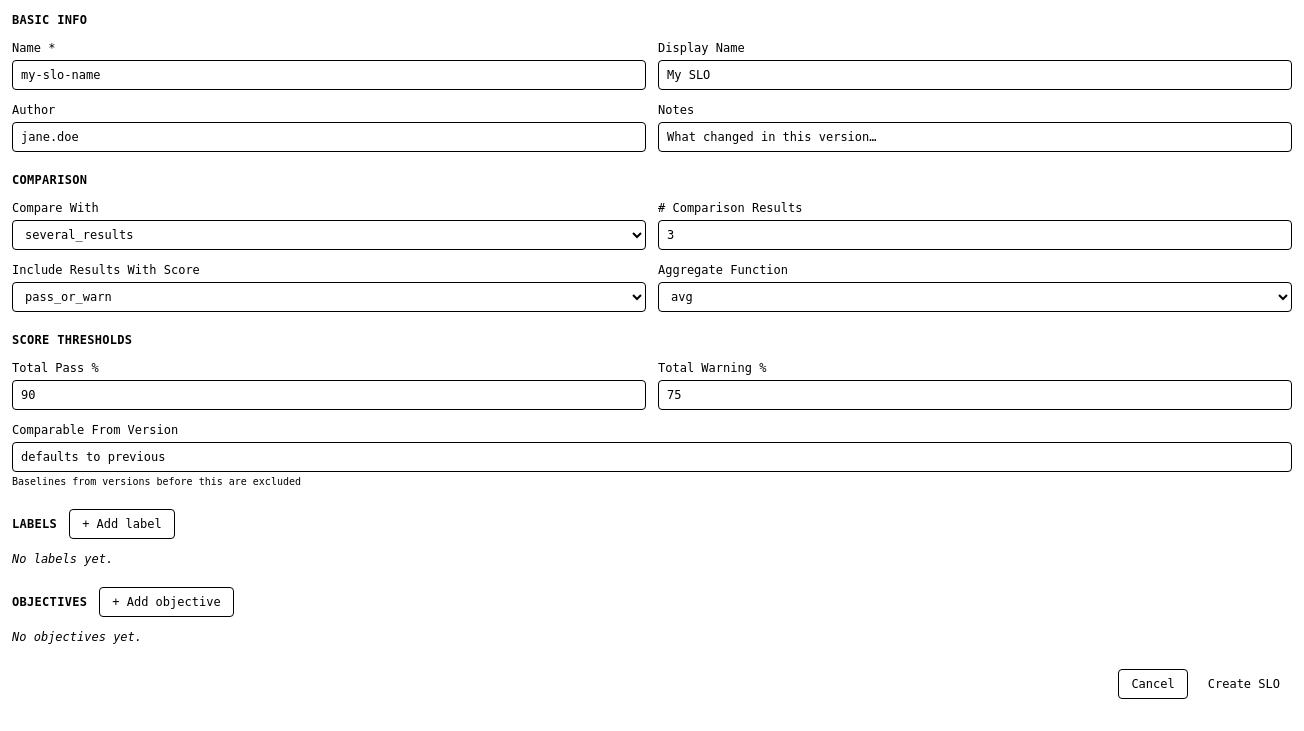
SloCreateForm › adds an objective row when + Add objective is clicked
This screenshot has width=1304, height=731.
Expected: the text "No objectives yet." is shown, x1=12 y1=630 x2=142 y2=644
Step 1. Click the button "+ Add objective" → [166, 602], box x1=99 y1=587 x2=234 y2=617
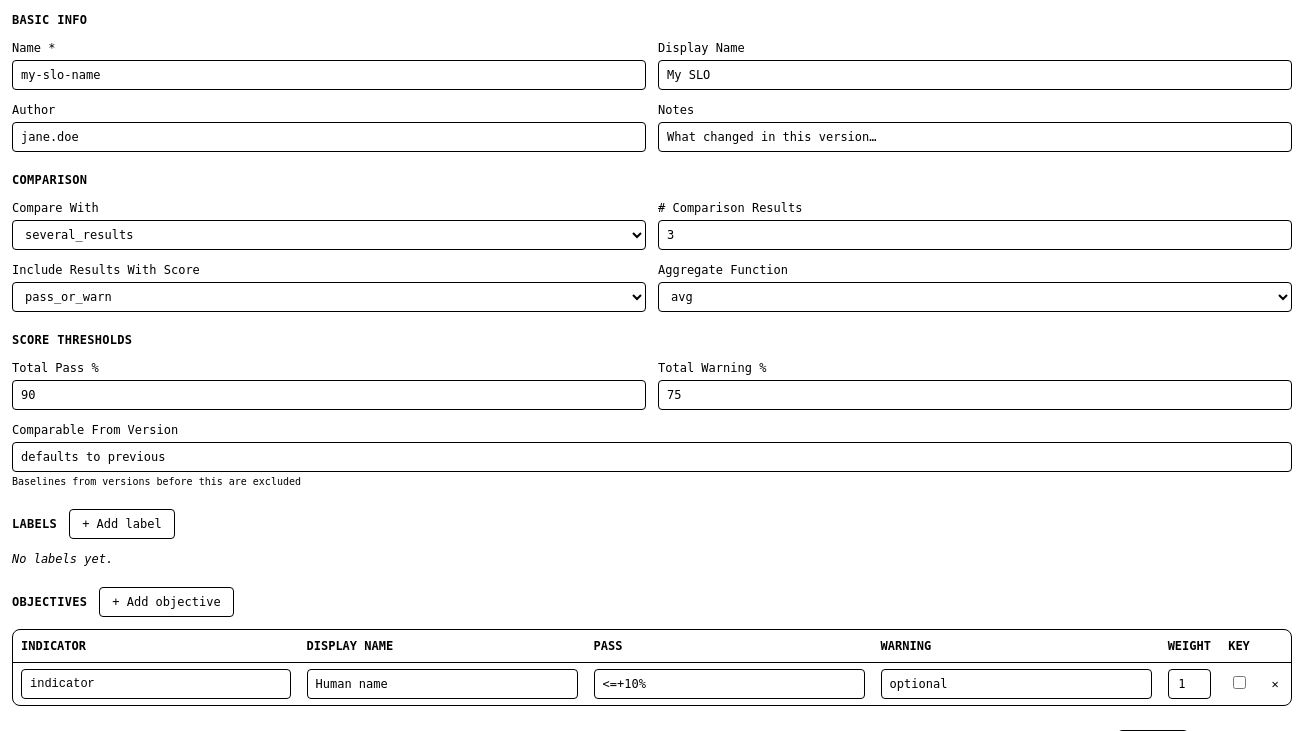
Result: the text "No objectives yet." is gone
Result: the field with placeholder "indicator" is shown at x1=21 y1=669 x2=290 y2=699
